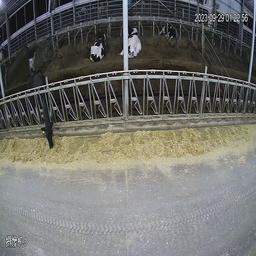cow: (28, 71, 55, 151), (89, 27, 108, 61), (128, 25, 142, 58), (160, 19, 179, 42)
